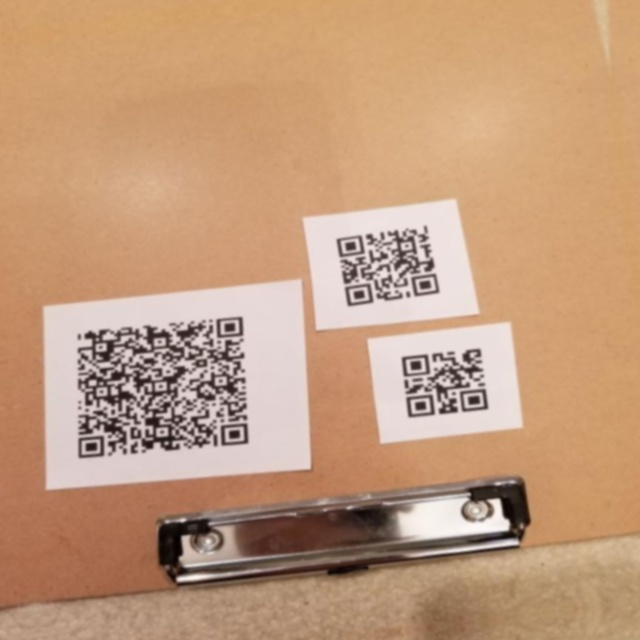qr-code: (48, 293, 275, 477), (318, 205, 462, 322), (380, 327, 507, 432)
